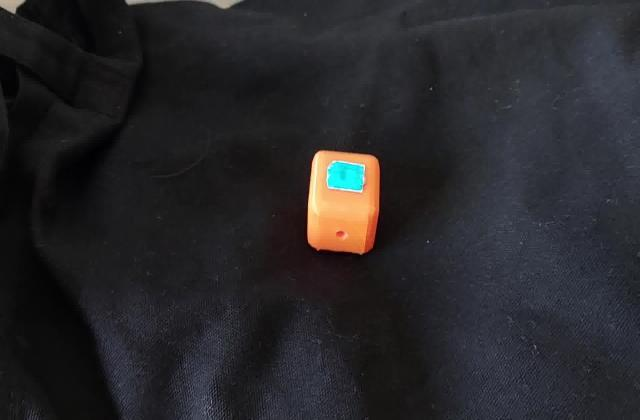blue: (334, 166, 360, 188)
sticker: (303, 146, 385, 256)
